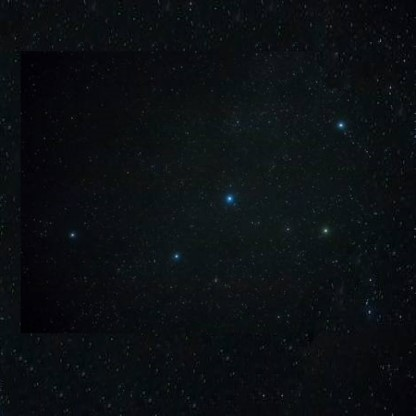Cassiopeia: (220, 190, 238, 211), (332, 115, 350, 133), (316, 220, 335, 237), (169, 248, 185, 265), (64, 226, 82, 241)
